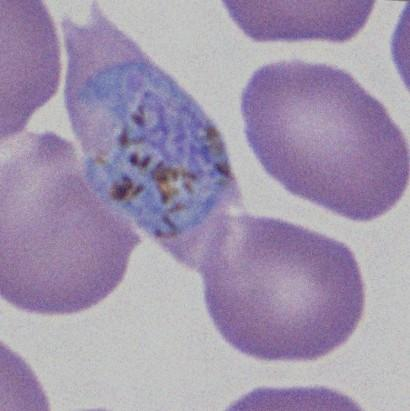Infected: (57, 8, 248, 275)
Uninfected: (239, 60, 410, 222), (0, 132, 139, 315), (206, 214, 361, 361)
